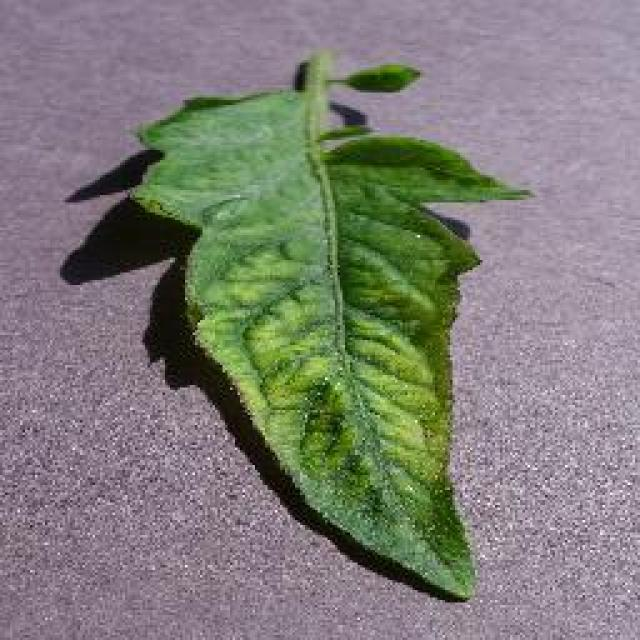Tomato___Tomato_mosaic_virus: (130, 52, 528, 598)
